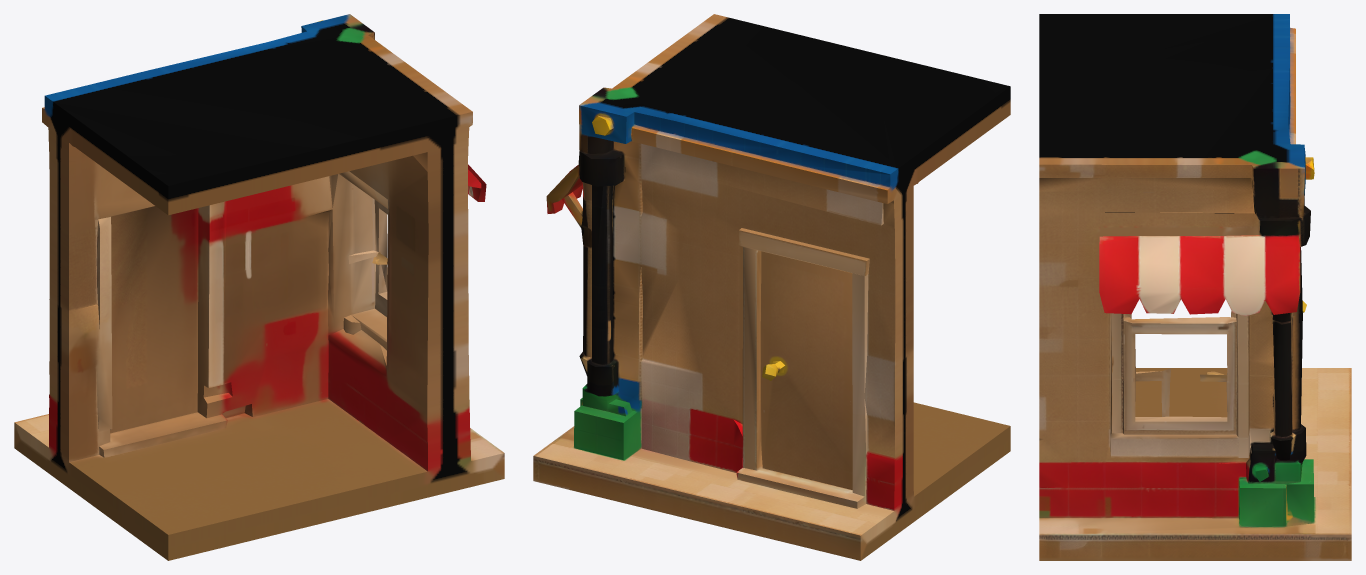
File: 4-ground-floor-back-right.fbx
3 views of the same model, side by side, from view 1: azimuth 30°, elevation 25°; view 2: azimuth 150°, elevation 25°; view 3: azimuth 270°, elevation 25° (orthographic). The views are drawn at different scales.
Visible parts, largest first — view 1: ground-floor-back-right; view 2: ground-floor-back-right; view 3: ground-floor-back-right.
Part boxes in pixels (box(x1,y1,x2,y2)): ground-floor-back-right: box(14, 14, 504, 560); ground-floor-back-right: box(533, 14, 1010, 560); ground-floor-back-right: box(1039, 14, 1351, 560).
Size of the model in its own units: 4108 by 4213 by 3135.
1 material, 1 textured.
